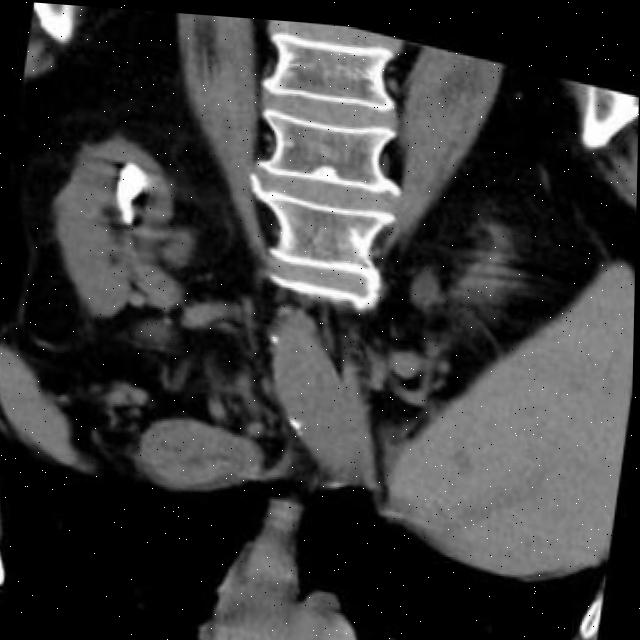Tas_Var: (99, 150, 160, 232)
